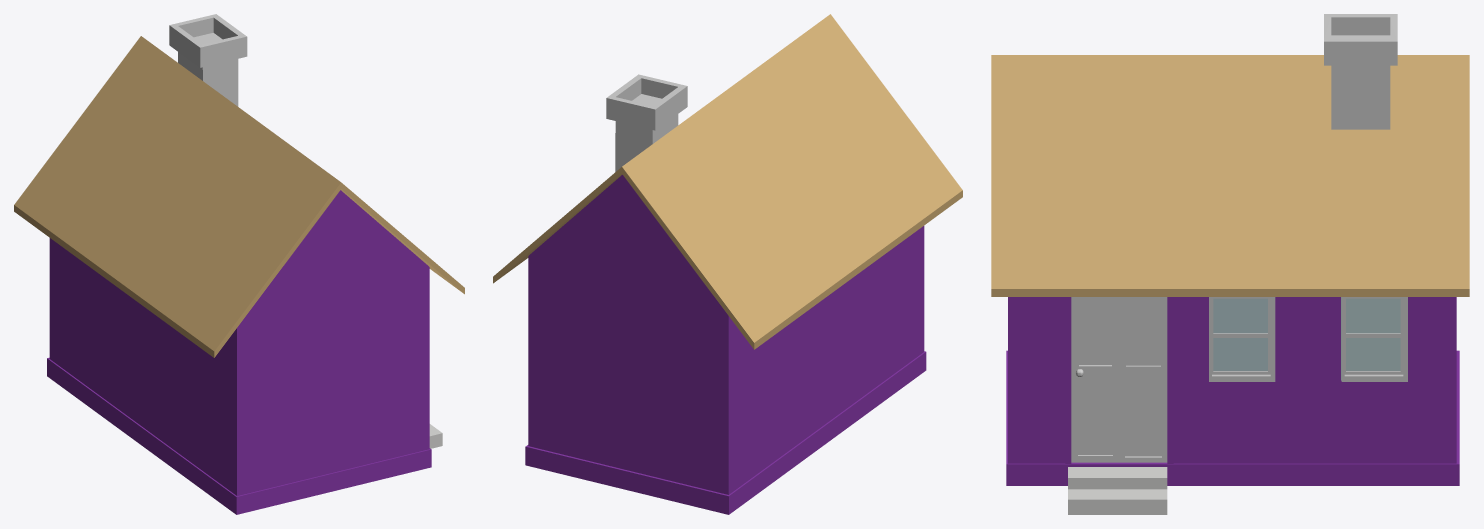
Rendered from house_purple.dae.
3 views of the same model, side by side, from view 1: azimuth 30°, elevation 25°; view 2: azimuth 150°, elevation 25°; view 3: azimuth 270°, elevation 25° (orthographic). The views are drawn at different scales.
Visible parts, largest first — view 1: Mesh_003_janela001_Cube_005; view 2: Mesh_003_janela001_Cube_005; view 3: Mesh_003_janela001_Cube_005.
Part boxes in pixels (x1,y1,x2,y2): Mesh_003_janela001_Cube_005: (14, 14, 464, 514); Mesh_003_janela001_Cube_005: (493, 14, 962, 514); Mesh_003_janela001_Cube_005: (991, 14, 1469, 514).
Bounding box in the file's own units: 3.34 × 4.45 × 4.32.
Materials: 10 (1 with a texture image).
